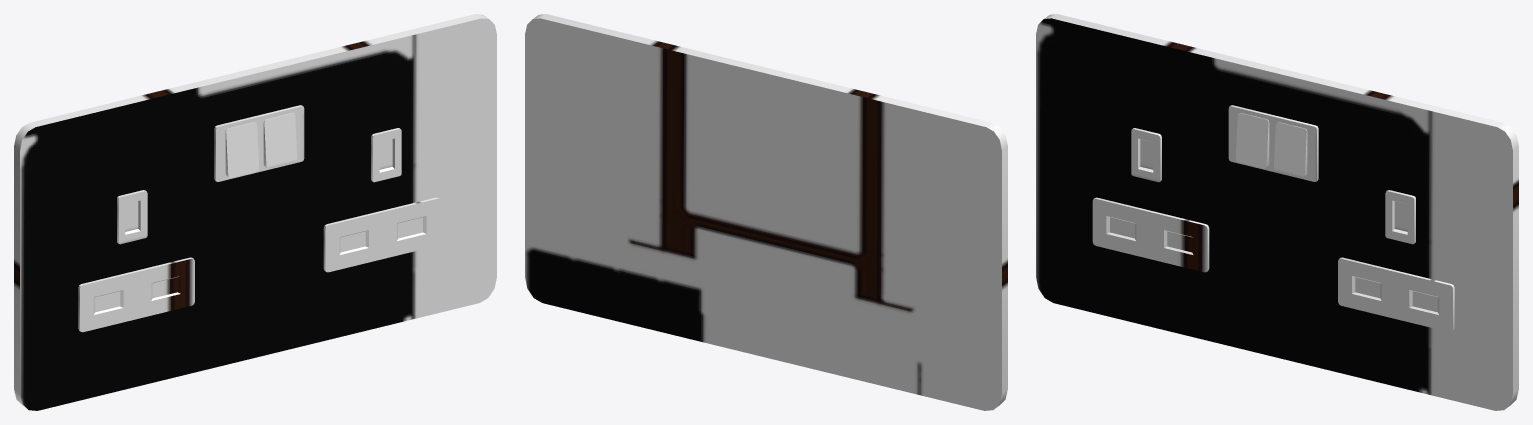
The model's file is Switch Reception.fbx.
3 views of the same model, side by side, from view 1: azimuth 30°, elevation 25°; view 2: azimuth 150°, elevation 25°; view 3: azimuth 330°, elevation 25° (orthographic).
Parts seen in each view (by area): view 1: Switch Reception gold; view 2: Switch Reception gold; view 3: Switch Reception gold.
Boxes of the visible parts, <box> form: Switch Reception gold: <box>14,14,496,410</box>; Switch Reception gold: <box>525,14,1007,410</box>; Switch Reception gold: <box>1036,14,1518,410</box>.
Bounding box in the file's own units: 0.0593 × 0.0338 × 0.00228.
